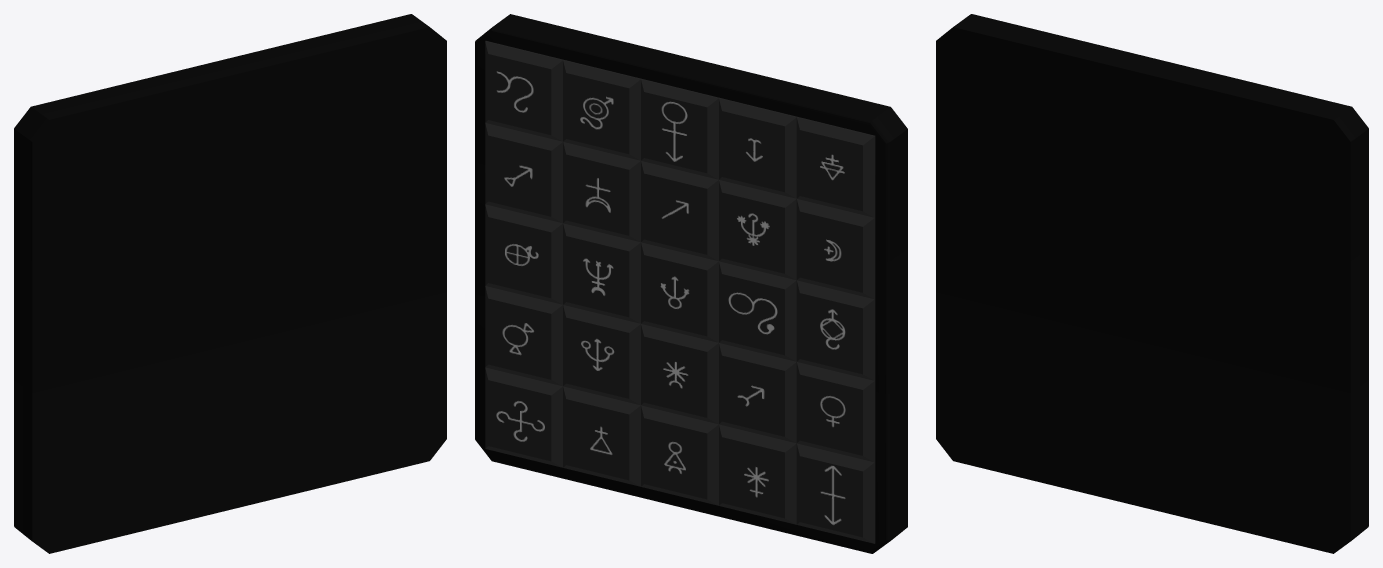
Rendered from gridBtns.fbx.
The picture shows the model from 3 angles, left to right: view 1: azimuth 30°, elevation 25°; view 2: azimuth 150°, elevation 25°; view 3: azimuth 330°, elevation 25°; orthographic projection.
Visible parts, largest first — view 1: Cube.003; view 2: Cube.003, Cube.002, Cube.016, Cube.026, Cube.008, Cube.021, Cube.007, Cube.004, Cube.006, Cube.005, Cube.012, Cube.011 (+14 smaller); view 3: Cube.003.
Part boxes in pixels (x1,y1,x2,y2): Cube.003: (14,14,446,553); Cube.003: (475,14,907,553); Cube.002: (796,117,875,217); Cube.016: (796,280,875,380); Cube.026: (796,443,875,543); Cube.008: (796,199,875,299); Cube.021: (796,362,875,462); Cube.007: (485,41,563,141); Cube.004: (719,97,796,198); Cube.006: (563,60,641,160); Cube.005: (641,79,718,179); Cube.012: (485,123,562,222); Cube.011: (563,142,640,242); Cube.003: (936,14,1368,553).
Bounding box in the file's own units: 1065 × 1065 × 111.
Materials: 2 (2 with a texture image).
